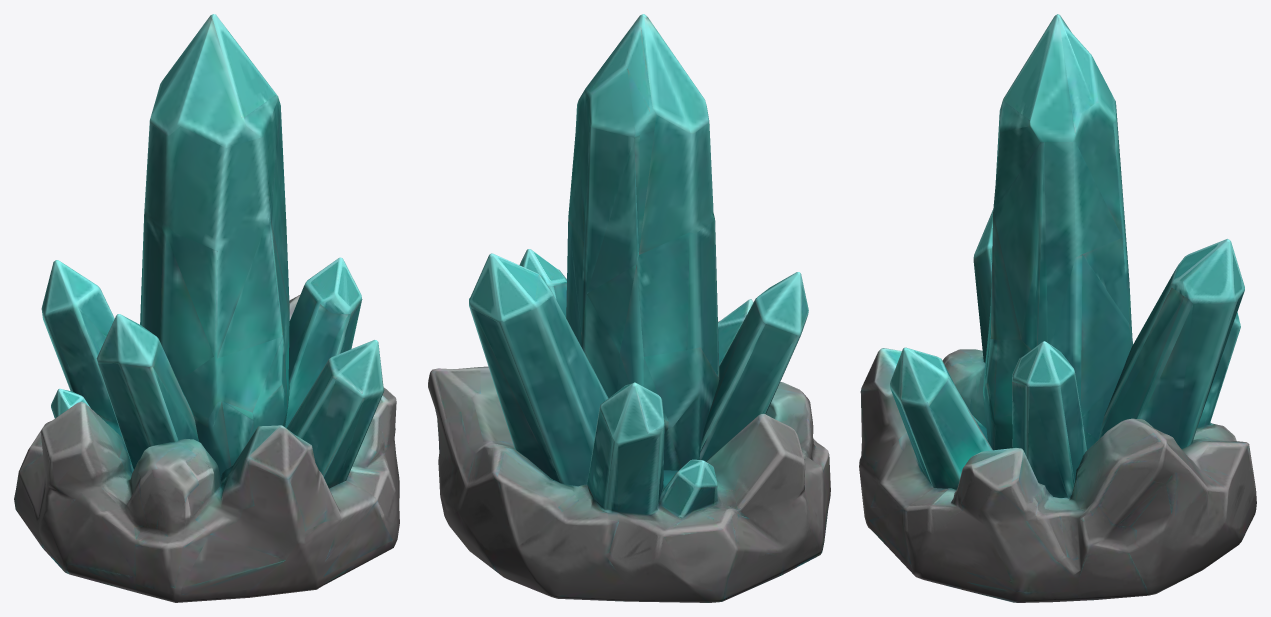
The model's file is crystal.glb.
3 renders of one model, left to right at view 1: azimuth 30°, elevation 25°; view 2: azimuth 150°, elevation 25°; view 3: azimuth 270°, elevation 25°, orthographic.
Bounding box in the file's own units: 0.6538 × 0.9526 × 0.6738.
1 material, 1 textured.
